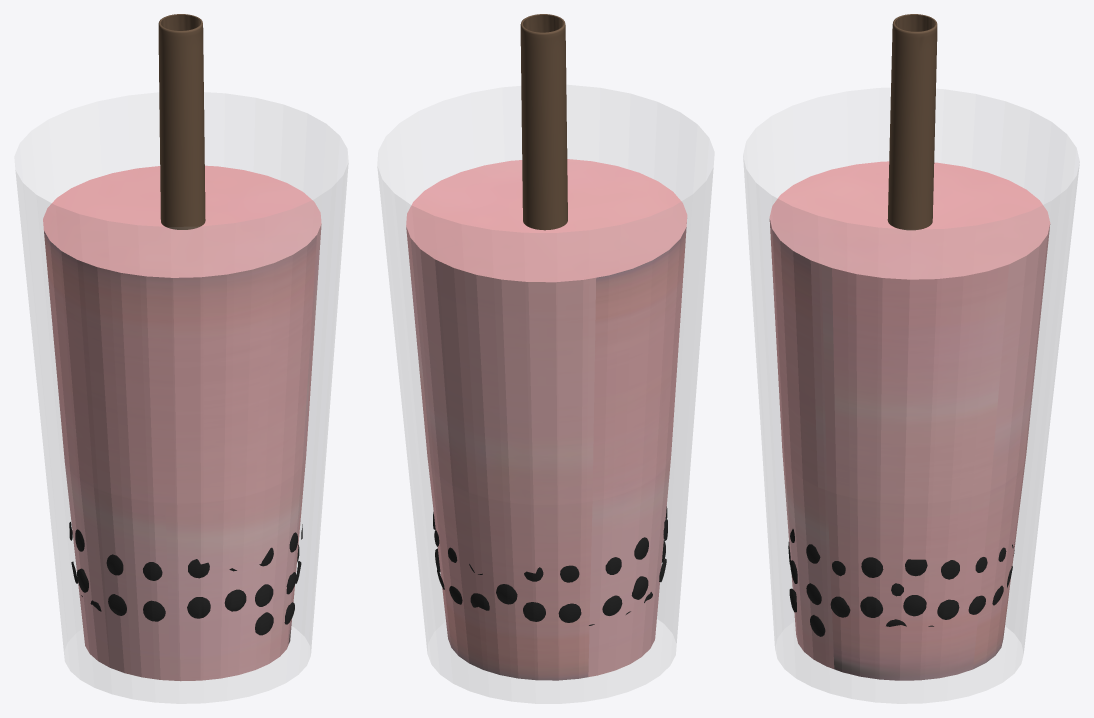
File: bobaTea.fbx
3 renders of one model, left to right at view 1: azimuth 30°, elevation 25°; view 2: azimuth 150°, elevation 25°; view 3: azimuth 270°, elevation 25°, orthographic.
Parts seen in each view (by area): view 1: Cup_01_Boba_Cup_Plastic_01_0.007; view 2: Cup_01_Boba_Cup_Plastic_01_0.007; view 3: Cup_01_Boba_Cup_Plastic_01_0.007.
Boxes of the visible parts, <box> form: Cup_01_Boba_Cup_Plastic_01_0.007: <box>15,14,348,703</box>; Cup_01_Boba_Cup_Plastic_01_0.007: <box>377,14,713,703</box>; Cup_01_Boba_Cup_Plastic_01_0.007: <box>743,14,1079,703</box>.
Bounding box in the file's own units: 91.47 × 189 × 91.44.
4 materials, 1 textured.
